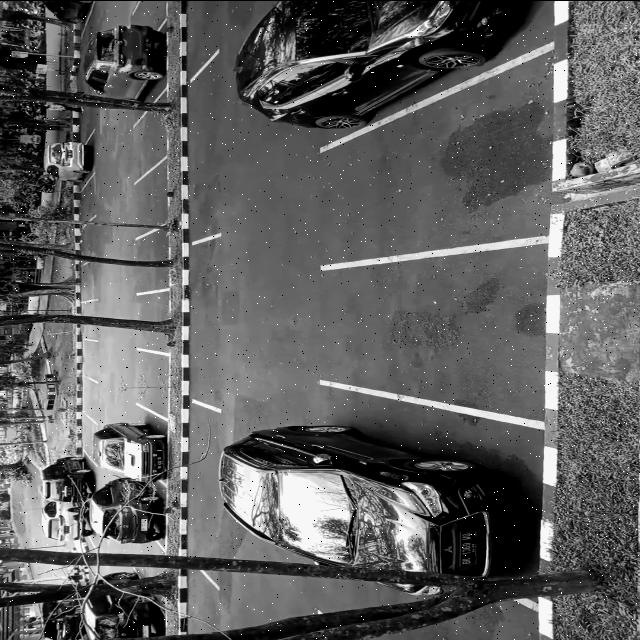occupied: (287, 381, 584, 615), (127, 18, 168, 126), (132, 457, 166, 551), (133, 403, 169, 485), (79, 129, 95, 191)
vacant: (311, 45, 590, 268), (319, 228, 560, 430), (190, 50, 220, 243), (191, 233, 222, 411), (191, 400, 219, 587), (133, 86, 169, 182), (132, 510, 165, 614), (134, 155, 167, 238), (135, 222, 169, 293), (137, 348, 169, 419), (137, 288, 169, 353), (79, 214, 98, 265), (79, 172, 96, 227), (82, 411, 98, 465), (81, 256, 98, 301), (83, 374, 98, 423), (82, 338, 98, 382), (82, 298, 98, 340)
